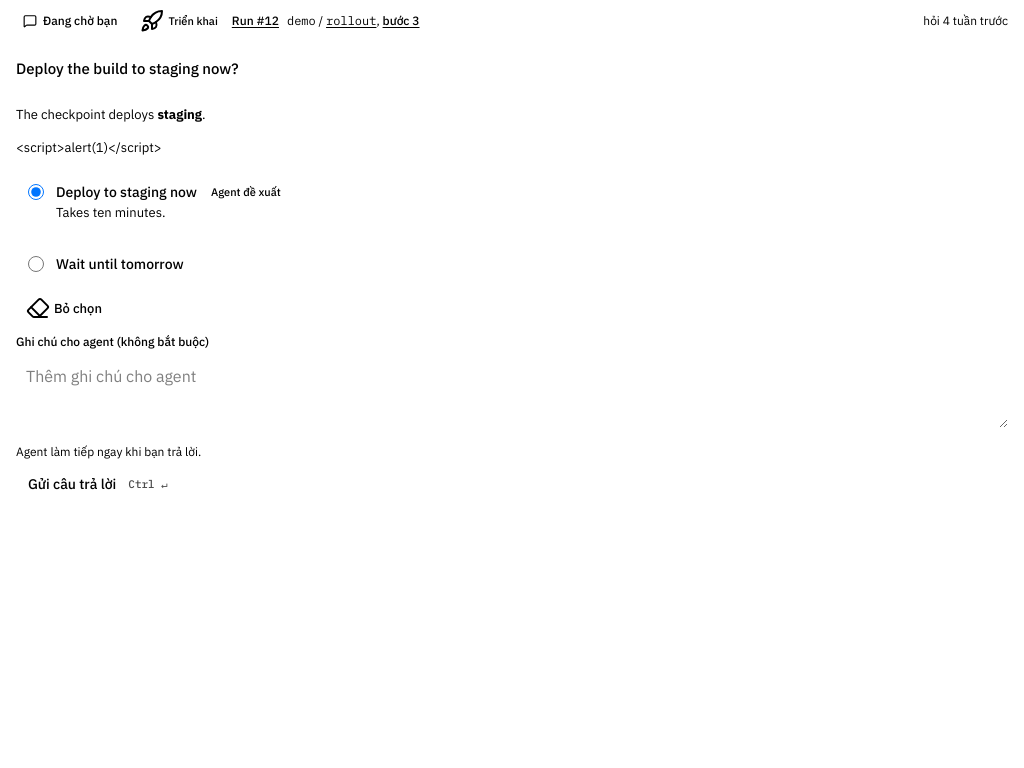
Test case: DecisionCard › says a decision answered meanwhile cannot take another answer, then reads it again
The width and height of the screenshot is (1024, 768).
Click the button with test id "decision-send". click: x=100, y=484
box: 16,468 -> 184,500
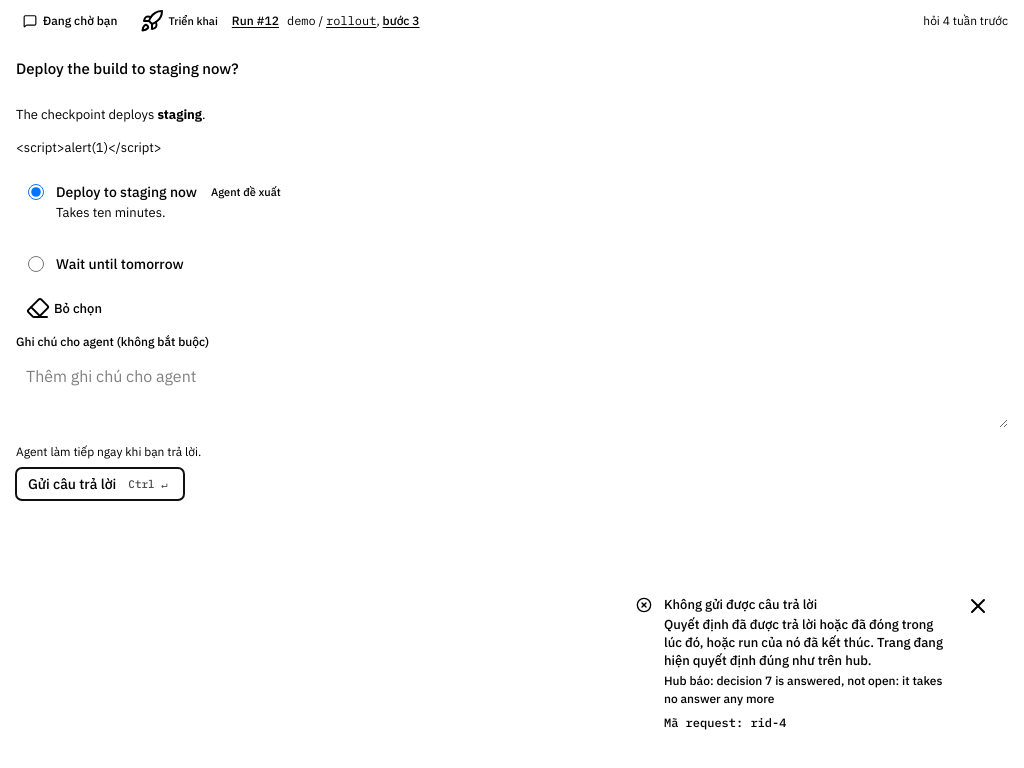
Result: the text "Không gửi được câu trả lời" is shown at 664,596 -> 817,613
Result: the message with test id "toast" shows "Quyết định đã được trả lời hoặc đã đóng trong lúc đó" at 664,616 -> 943,669
Result: the message with test id "toast" shows "Hub báo: decision 7 is answered, not open" at 664,673 -> 942,706
